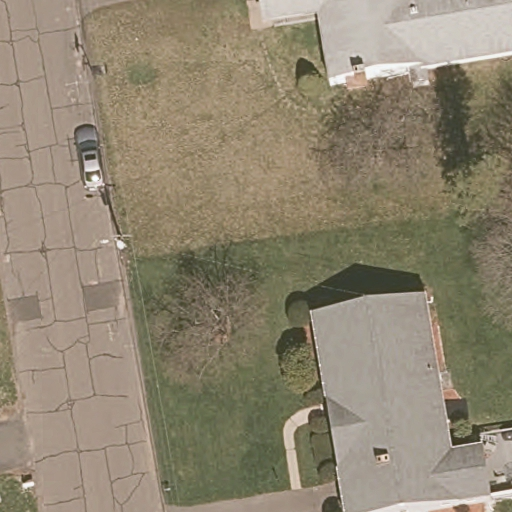DT: (99, 233, 134, 251)
